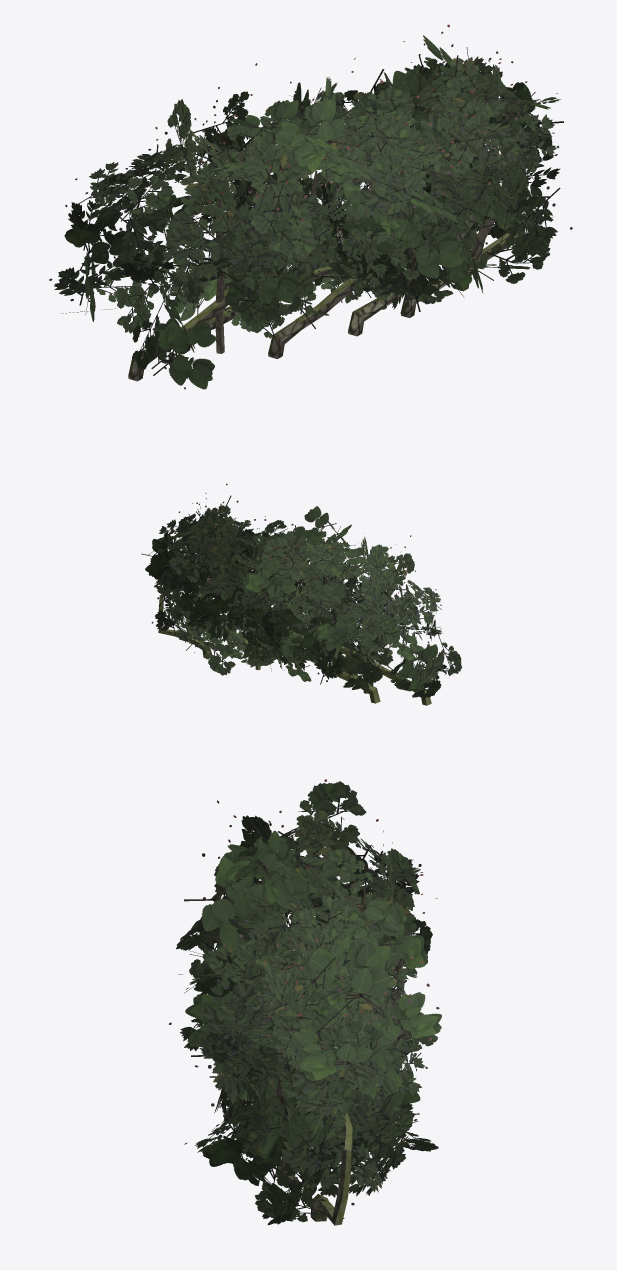
Rendered from hedge_shrub.glb.
3 views of the same model, one above another, from view 1: azimuth 30°, elevation 25°; view 2: azimuth 150°, elevation 25°; view 3: azimuth 270°, elevation 25° (orthographic). The views are drawn at different scales.
Parts seen in each view (by area): view 1: hedge_shrub_cards_LOD0, hedge_shrub_LOD0; view 2: hedge_shrub_cards_LOD0, hedge_shrub_LOD0; view 3: hedge_shrub_cards_LOD0, hedge_shrub_LOD0.
Part boxes in pixels (x1,y1,x2,y2): hedge_shrub_cards_LOD0: [49, 24, 572, 389]; hedge_shrub_LOD0: [128, 146, 525, 381]; hedge_shrub_cards_LOD0: [141, 483, 462, 698]; hedge_shrub_LOD0: [158, 554, 431, 705]; hedge_shrub_cards_LOD0: [169, 779, 441, 1225]; hedge_shrub_LOD0: [271, 1044, 352, 1225].
Size of what is drawn, in the model's own units: 5.34 by 2.15 by 3.49.
2 materials, 2 textured.
